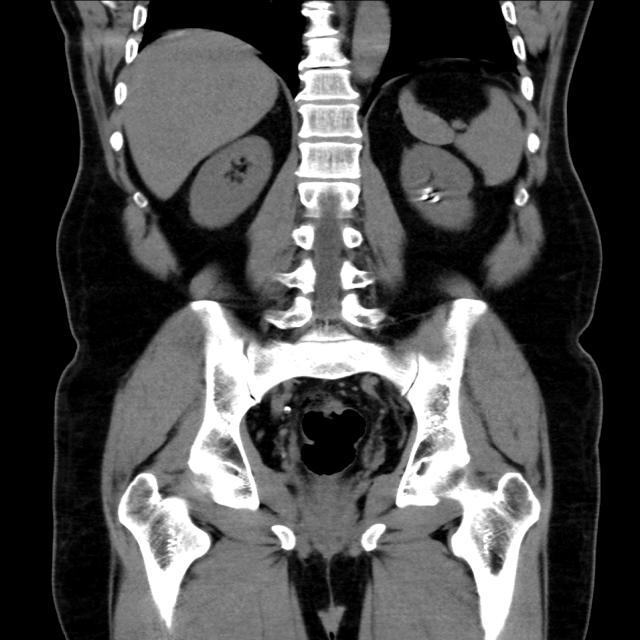kidneystone: (412, 185, 443, 203)
